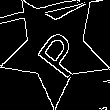P_NW: (26, 19, 85, 80)
